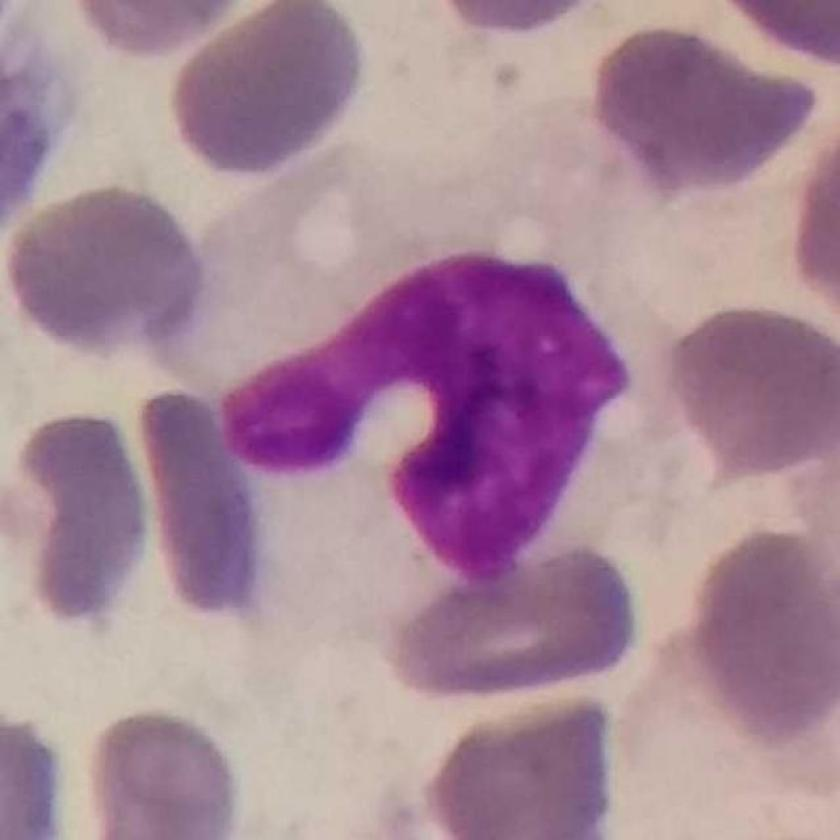monocyte: (107, 117, 693, 714)
